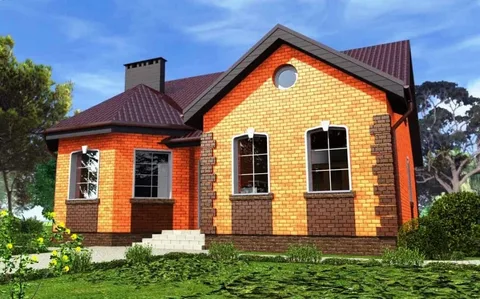private_hause: (50, 26, 428, 245)
